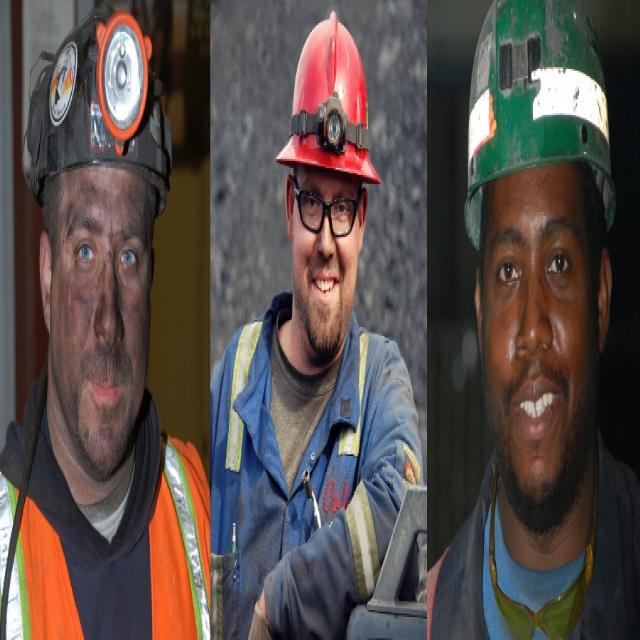Reflective-Jacket: (220, 314, 406, 636), (1, 419, 210, 640)
Safety-Helmet: (461, 2, 618, 225), (15, 4, 182, 212), (275, 12, 381, 190)
